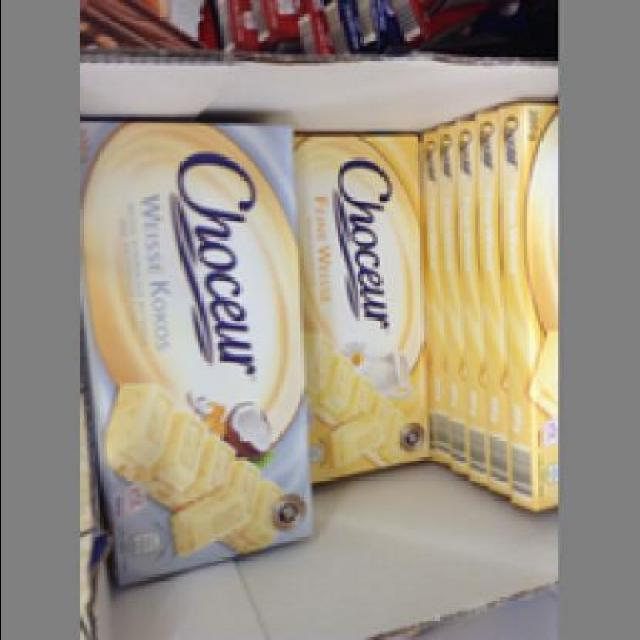Chocolate bar: (83, 114, 317, 594), (296, 126, 434, 489)
